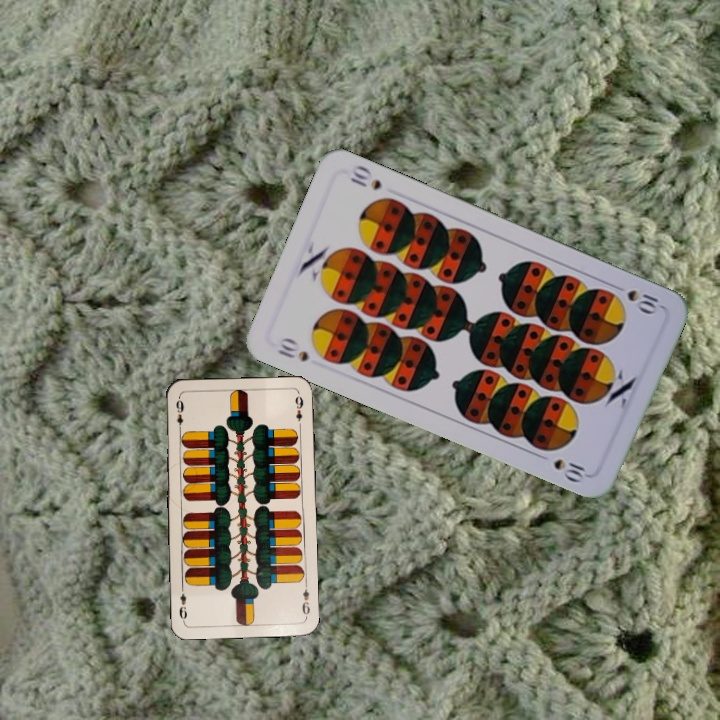E9: (172, 394, 186, 435), (298, 579, 312, 620)
S10: (608, 280, 661, 317), (274, 333, 311, 365)
